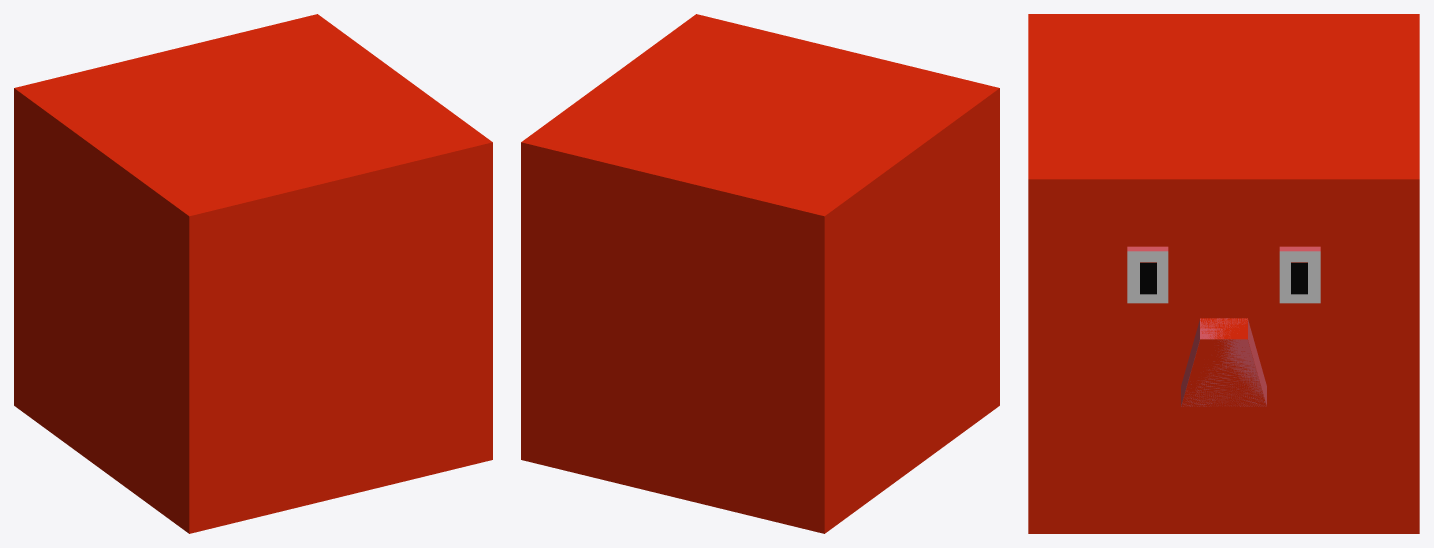
The model's file is cabeza-cuboPlayer.glb.
3 renders of one model, left to right at view 1: azimuth 30°, elevation 25°; view 2: azimuth 150°, elevation 25°; view 3: azimuth 270°, elevation 25°, orthographic. The views are drawn at different scales.
Visible parts, largest first — view 1: Cube; view 2: Cube; view 3: Cube.
Part boxes in pixels (left/top/right/bottom): Cube: left=14, top=14, right=492, bottom=533; Cube: left=521, top=14, right=999, bottom=533; Cube: left=1028, top=14, right=1419, bottom=533.
Size of the model in its own units: 2.25 by 2 by 2.
